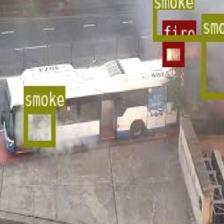fire: (162, 41, 183, 65)
smoke: (152, 0, 224, 40), (200, 34, 224, 97), (23, 106, 55, 146)
